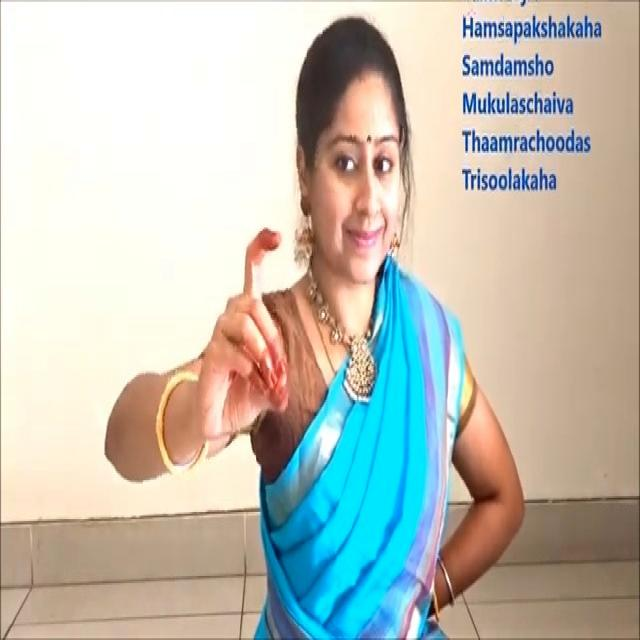Tamrachuda: (196, 214, 288, 472)
lady: (291, 23, 427, 292)
text: (450, 13, 611, 203)
